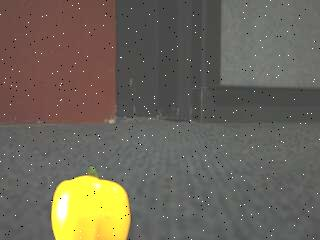Capsicum: (50, 167, 131, 240)
